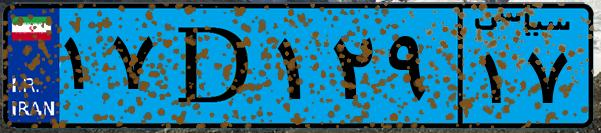1: (270, 28, 330, 110), (57, 26, 110, 100), (475, 38, 525, 113)
2: (330, 28, 385, 110)
7: (525, 38, 570, 115), (110, 28, 158, 98)
9: (385, 28, 445, 110)
D: (158, 12, 270, 120)
